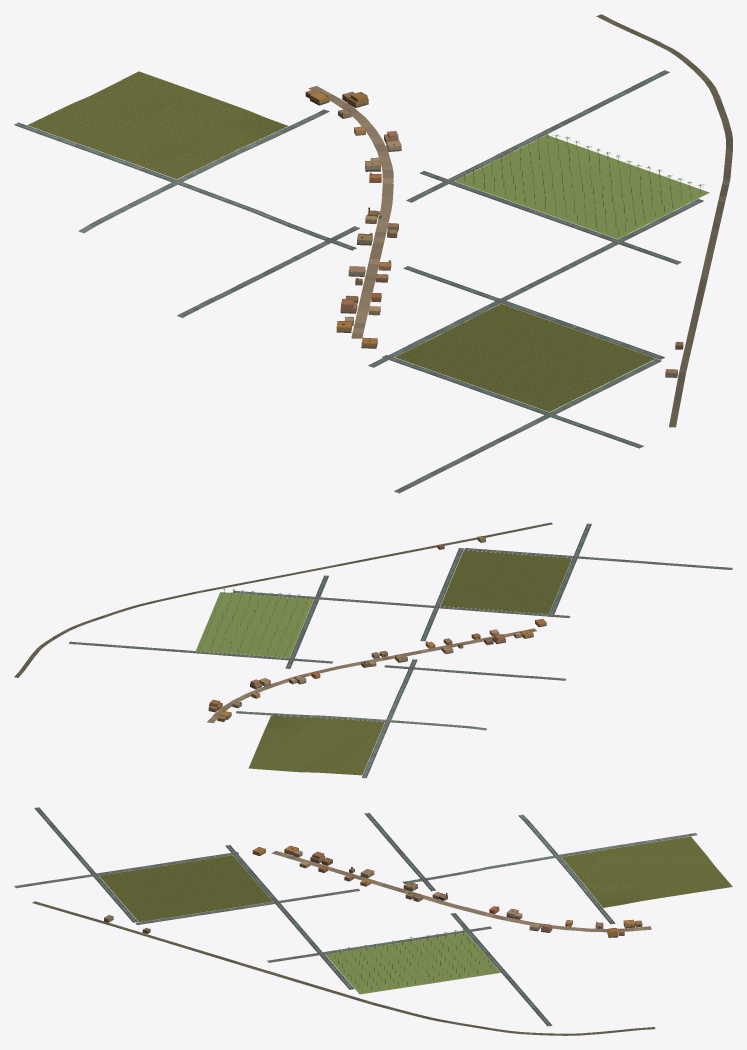
Rendered from uruk_quarter_18.glb.
3 renders of one model, top to bottom at view 1: azimuth 30°, elevation 25°; view 2: azimuth 150°, elevation 25°; view 3: azimuth 270°, elevation 25°, orthographic. The views are drawn at different scales.
Parts seen in each view (by area): view 1: uruk_quarter_18; view 2: uruk_quarter_18; view 3: uruk_quarter_18.
Part boxes in pixels (x1,y1,x2,y2): uruk_quarter_18: (14, 14, 732, 493); uruk_quarter_18: (14, 522, 732, 778); uruk_quarter_18: (14, 807, 732, 1035).
Bounding box in the file's own units: 697 × 9.82 × 925.
Materials: 20 (6 with a texture image).
